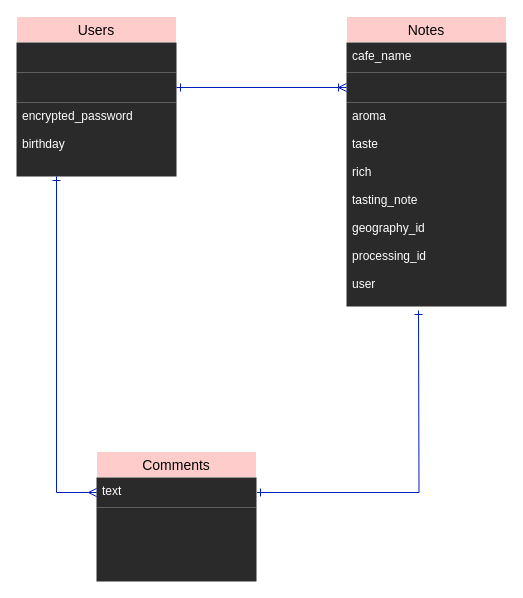
Image size: 523x598. Some labels were removed from this diagram. Each missing label, with the centre of its shape:
"appearance" belongs at pixel 426 87.
"email" belongs at pixel 96 87.
"nickname" belongs at pixel 96 57.
"user note" belongs at pixel 176 544.
